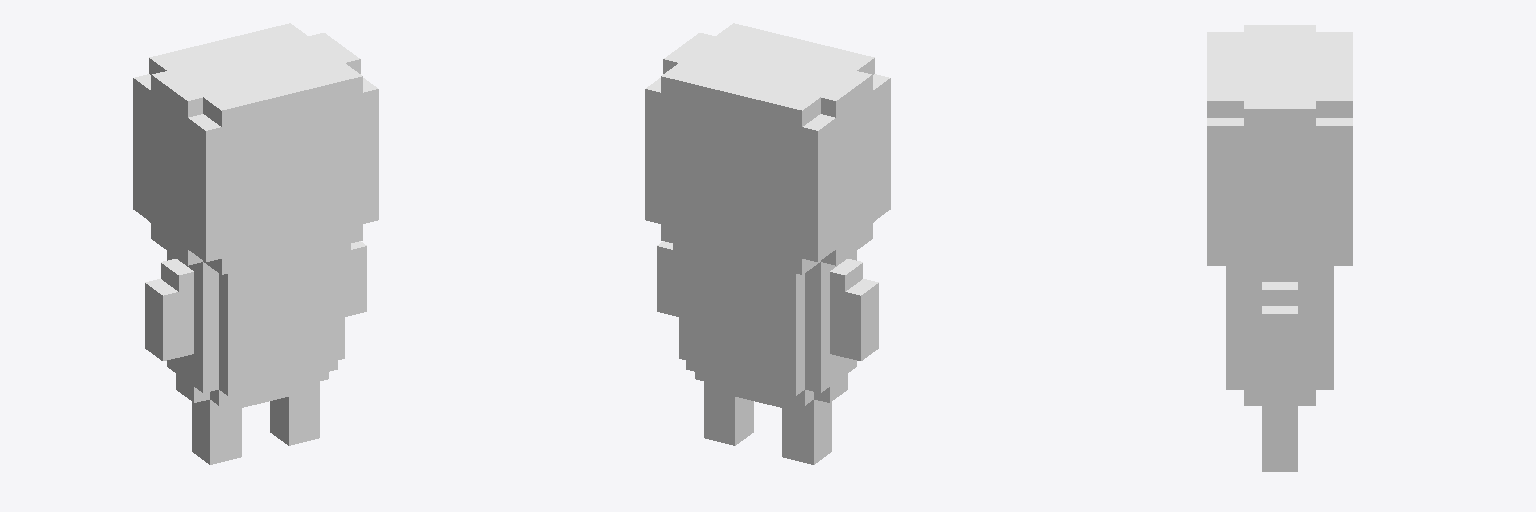
Rendered from kodama.obj.
3 renders of one model, left to right at view 1: azimuth 30°, elevation 25°; view 2: azimuth 150°, elevation 25°; view 3: azimuth 270°, elevation 25°, orthographic.
Parts seen in each view (by area): view 1: object 1; view 2: object 1; view 3: object 1.
Part boxes in pixels (x1,y1,x2,y2): object 1: (133,23,378,464); object 1: (645,23,890,464); object 1: (1207,25,1352,471).
Size of the model in its own units: 1.3 by 2.3 by 0.8.